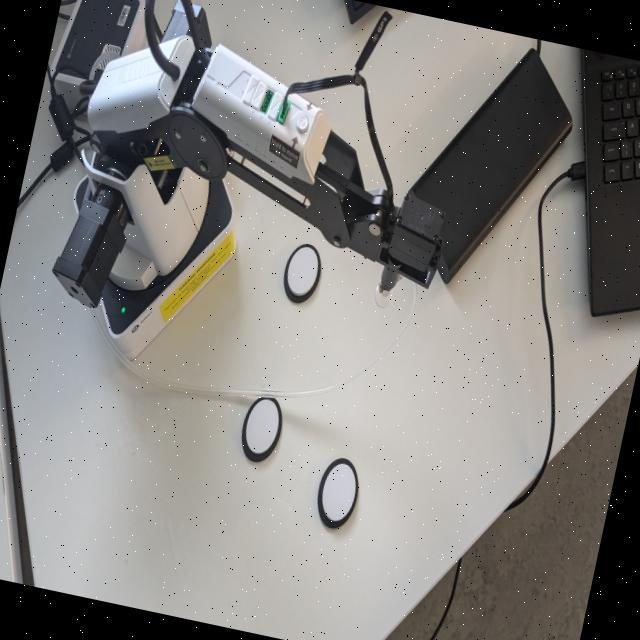Robot-end-effector-HF8z: (366, 186, 453, 324)
